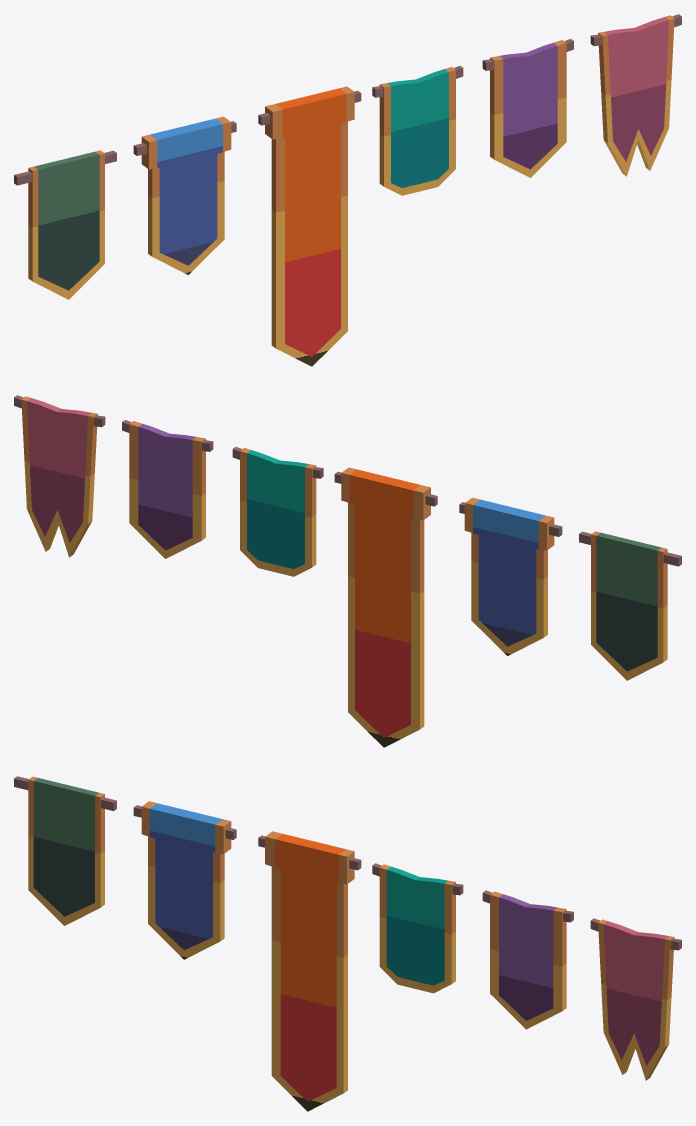
Rendered from bannieres_set_02.fbx.
3 renders of one model, top to bottom at view 1: azimuth 30°, elevation 25°; view 2: azimuth 150°, elevation 25°; view 3: azimuth 330°, elevation 25°, orthographic.
Parts seen in each view (by area): view 1: polySurface19, polySurface17, polySurface16, polySurface25, polySurface23, polySurface21; view 2: polySurface19, polySurface17, polySurface16, polySurface25, polySurface23, polySurface21; view 3: polySurface19, polySurface17, polySurface16, polySurface25, polySurface23, polySurface21.
Part boxes in pixels (left/top/right/bottom): polySurface19: left=258, top=86, right=361, bottom=366; polySurface17: left=133, top=116, right=236, bottom=274; polySurface16: left=14, top=150, right=116, bottom=299; polySurface25: left=590, top=14, right=681, bottom=176; polySurface23: left=482, top=39, right=573, bottom=177; polySurface21: left=372, top=66, right=463, bottom=195; polySurface19: left=334, top=467, right=437, bottom=747; polySurface17: left=459, top=497, right=562, bottom=655; polySurface16: left=579, top=531, right=681, bottom=680; polySurface25: left=14, top=395, right=105, bottom=557; polySurface23: left=122, top=420, right=213, bottom=558; polySurface21: left=232, top=447, right=323, bottom=576; polySurface19: left=258, top=831, right=361, bottom=1111; polySurface17: left=133, top=801, right=236, bottom=959; polySurface16: left=14, top=776, right=116, bottom=925; polySurface25: left=590, top=918, right=681, bottom=1080; polySurface23: left=482, top=890, right=573, bottom=1029; polySurface21: left=372, top=863, right=463, bottom=993.
Size of the model in its own units: 14.86 by 5.68 by 0.2919.
Materials: 1 (1 with a texture image).
